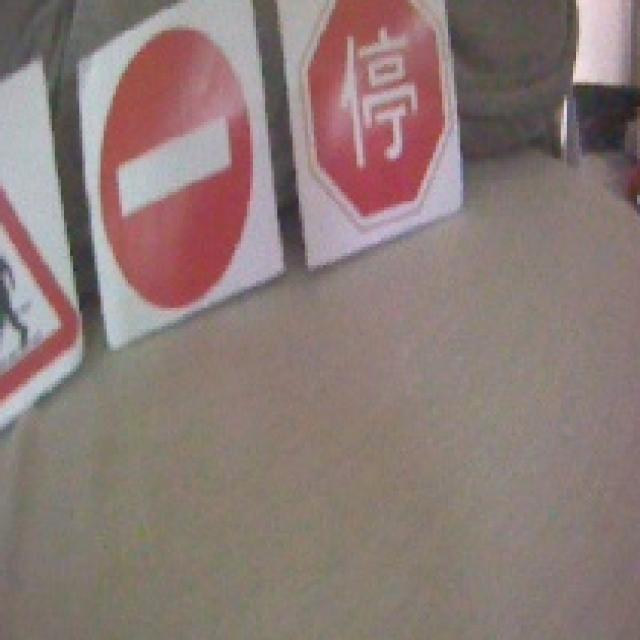DoNotEnterSign: (99, 19, 257, 315)
